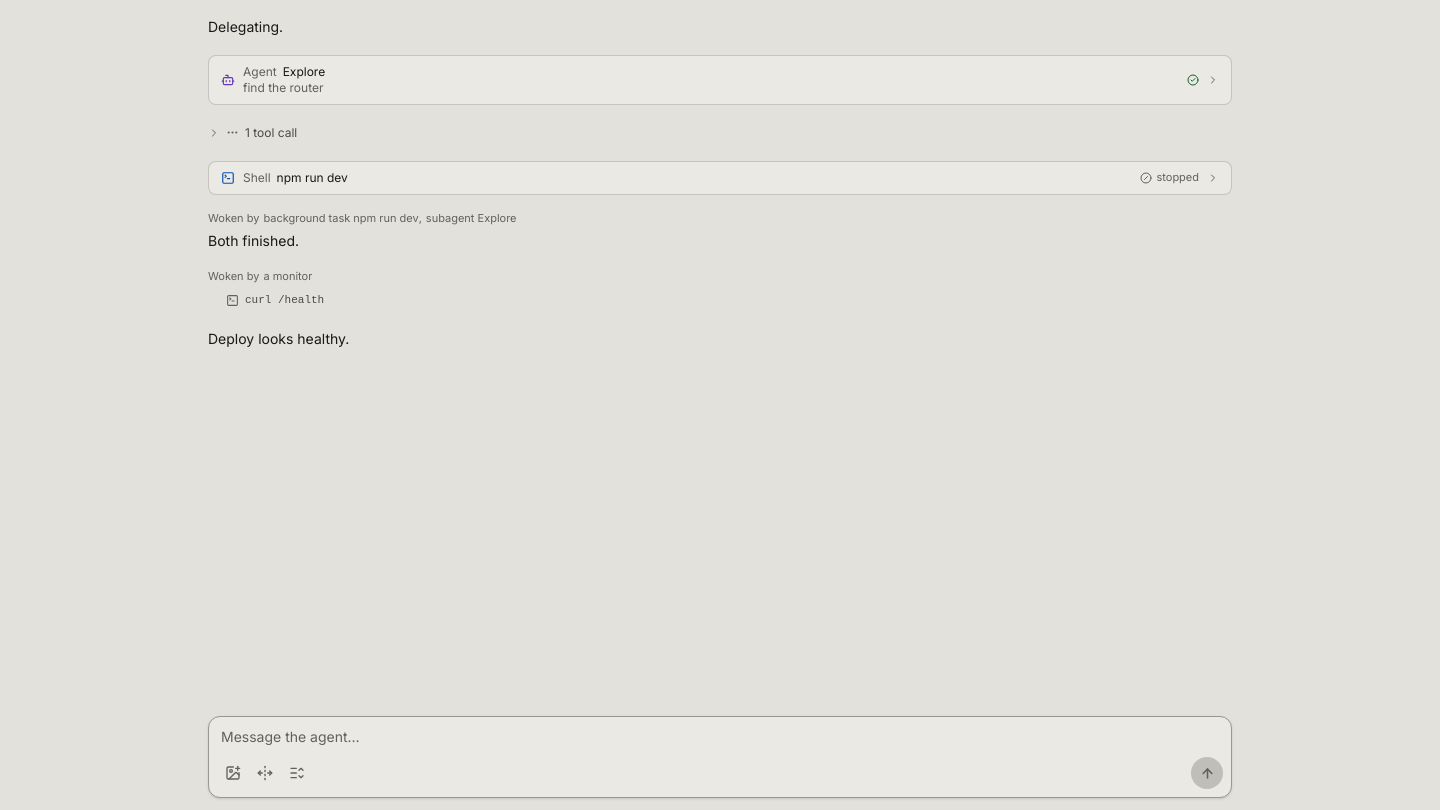
it: WorkspaceChat subagents and background tasks › names what woke the agent into a run it started itself, through the condensed view, and opens it
This screenshot has width=1440, height=810.
Click the button "subagent Explore": (471, 219) top-left (426, 211), bottom-right (517, 226)
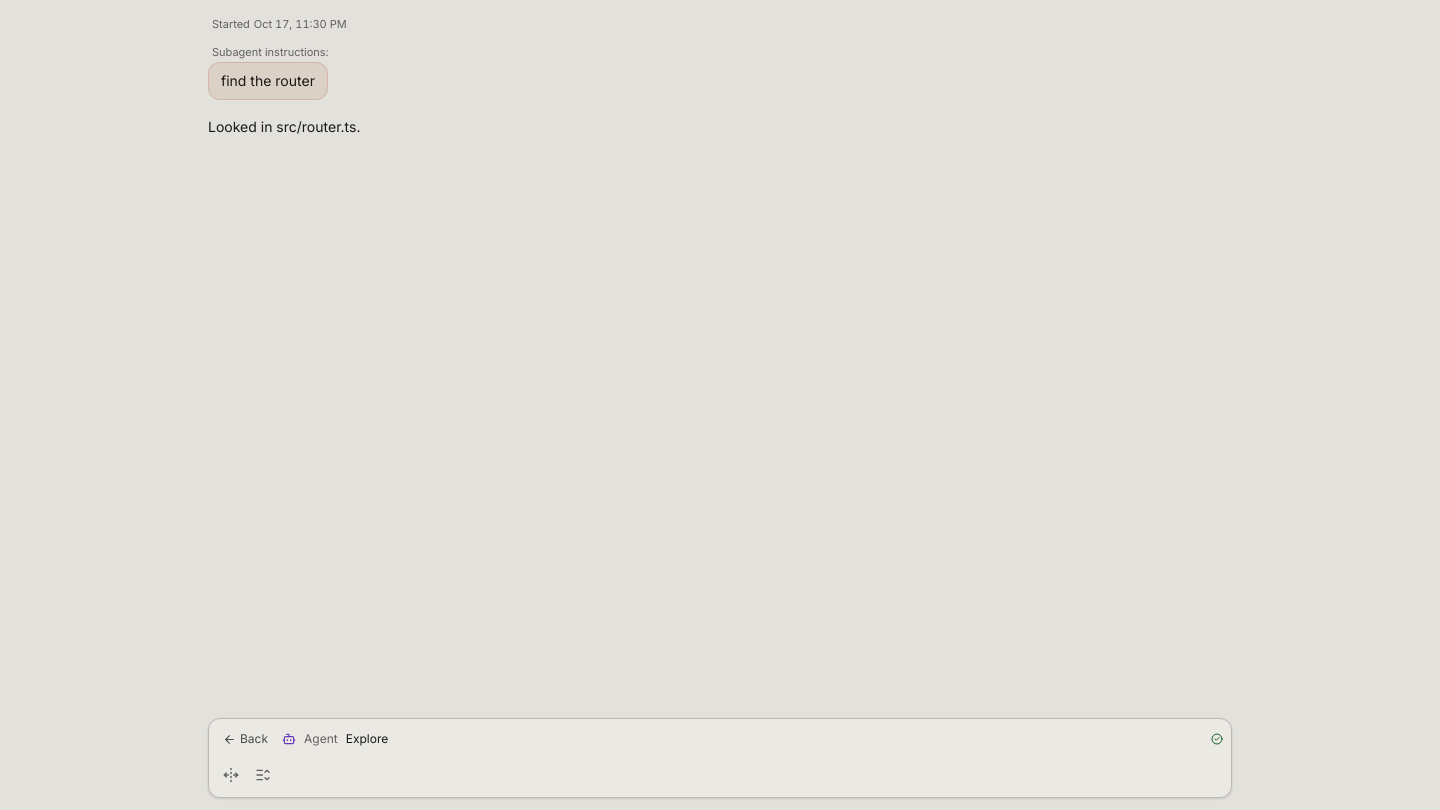
Expected: the text "Looked in src/router.ts." is shown, top-left (208, 118), bottom-right (360, 135)
